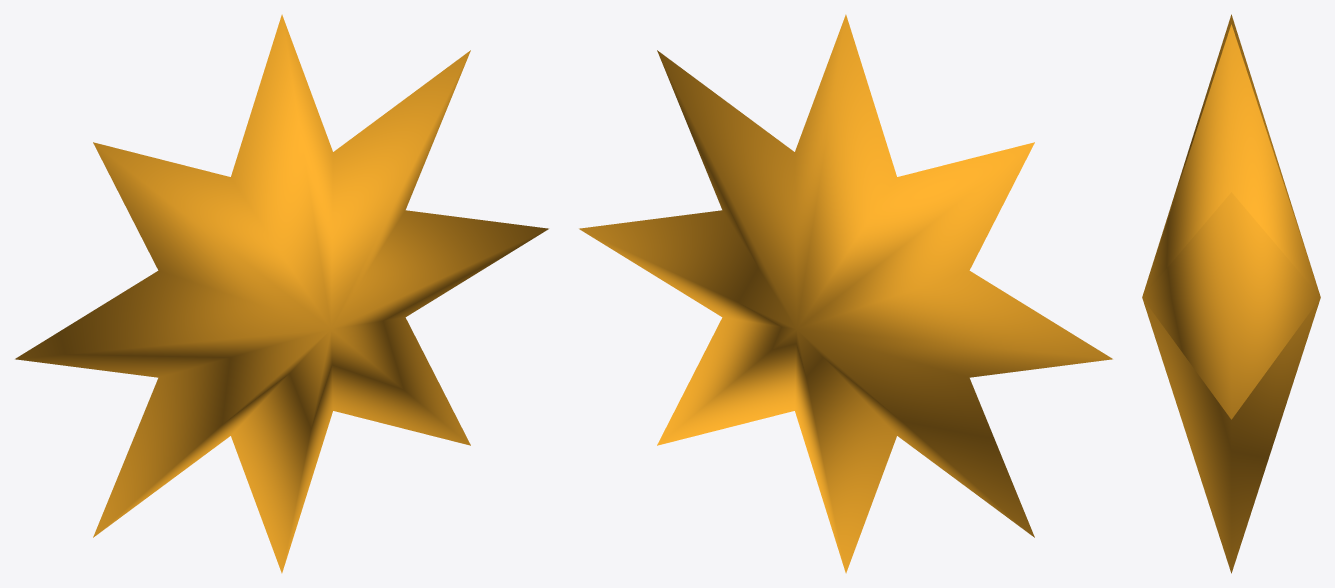
Rendered from 01-STAR-08.fbx.
The picture shows the model from 3 angles, left to right: view 1: azimuth 30°, elevation 25°; view 2: azimuth 150°, elevation 25°; view 3: azimuth 270°, elevation 25°; orthographic projection. The views are drawn at different scales.
Parts seen in each view (by area): view 1: 01-STAR-08; view 2: 01-STAR-08; view 3: 01-STAR-08.
Boxes of the visible parts, x1,y1,x2,y2 form: 01-STAR-08: (15,14,548,573); 01-STAR-08: (579,14,1112,573); 01-STAR-08: (1142,14,1320,573).
Size of the model in its own units: 400 by 400 by 120.
